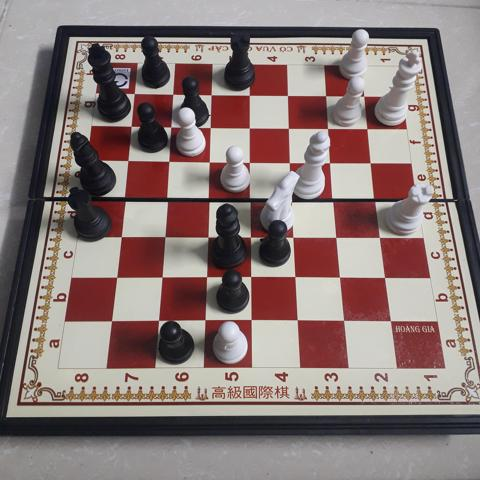xcorner: (285, 190, 302, 206), (362, 121, 379, 137), (103, 312, 119, 328), (150, 312, 166, 328), (197, 312, 213, 328), (243, 313, 259, 329), (290, 313, 306, 329), (336, 313, 352, 329), (382, 313, 398, 329), (108, 268, 124, 284), (153, 268, 169, 284), (198, 269, 214, 285), (243, 269, 259, 285), (288, 269, 304, 285), (333, 270, 349, 286), (378, 270, 394, 286), (112, 227, 128, 243), (156, 228, 172, 244), (200, 228, 216, 244), (243, 228, 259, 244), (287, 228, 303, 244), (330, 229, 346, 245), (374, 229, 390, 245), (116, 189, 132, 205), (159, 189, 175, 205), (201, 189, 217, 205), (243, 190, 259, 206), (328, 190, 344, 206), (370, 191, 386, 207), (120, 153, 136, 169), (161, 153, 177, 169), (202, 153, 218, 169), (243, 154, 259, 170), (284, 154, 300, 170), (325, 154, 341, 170), (366, 155, 382, 171), (124, 119, 140, 135), (164, 119, 180, 135), (204, 119, 220, 135), (243, 120, 259, 136), (283, 120, 299, 136), (323, 120, 339, 136), (127, 86, 143, 102), (166, 87, 182, 103), (205, 87, 221, 103), (243, 87, 259, 103), (282, 88, 298, 104), (321, 88, 337, 104), (359, 88, 375, 104)
